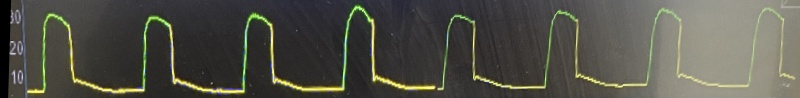normal_pressure: (30, 1, 795, 98)
